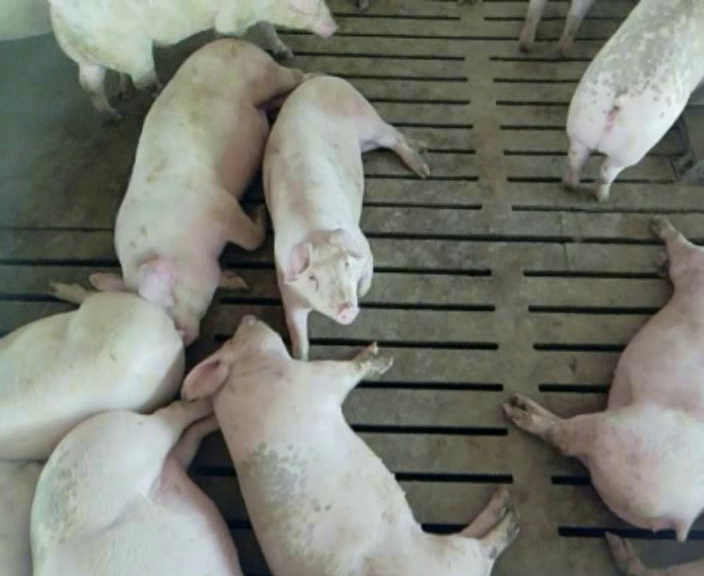pig: (183, 316, 517, 574), (89, 40, 302, 343), (503, 218, 703, 539), (263, 75, 428, 359), (31, 401, 240, 573), (0, 282, 183, 458), (50, 1, 335, 114), (563, 2, 703, 200)
